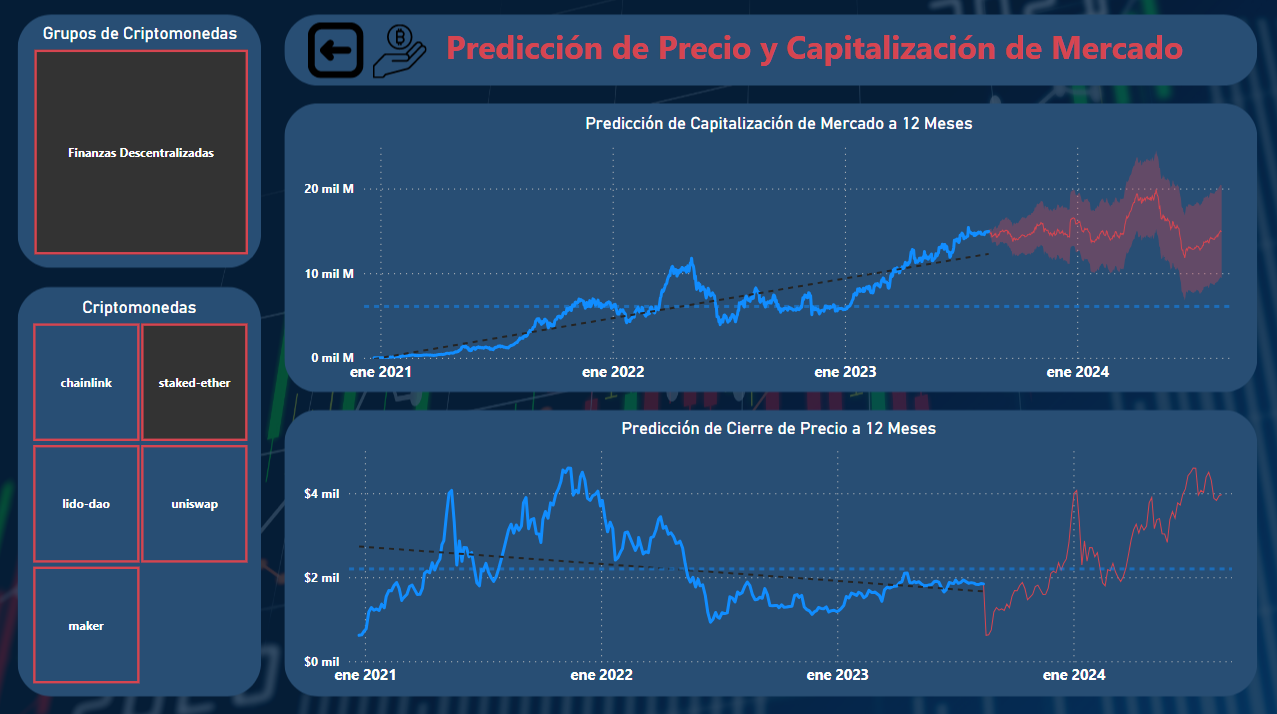

The page's visual inventory and layout, read from the dashboard file:
{"tool":"powerbi","page":{"name":"Predicción 12 Meses","canvas":[1280,720],"ordinal":4},"visuals":[{"type":"lineChart","title":"Predicción de Capitalización de Mercado a 12 Meses","fields":{"Category":["combinado_completo.date"],"Y":["Avg(combinado_completo.market_caps)"]},"box":[300.6,115.6,959.4,278.8],"z":0},{"type":"lineChart","title":"Predicción de Cierre de Precio a 12 Meses","fields":{"Category":["combinado_completo.date"],"Y":["Avg(combinado_completo.close)"]},"box":[300.9,421.8,959.1,277.3],"z":1000},{"type":"textbox","box":[442.7,22.7,797.3,80.9],"z":2000},{"type":"slicer","title":"Grupos de Criptomonedas","fields":{"Values":["combinado_completo.Grupos de Criptomonedas"]},"box":[10,26.4,263.6,238.2],"z":3000},{"type":"slicer","title":"Criptomonedas","fields":{"Values":["combinado_completo.id"]},"box":[8.1,299.4,265,393.8],"z":4000},{"type":"actionButton","box":[308.3,22.9,58.6,48.4],"z":5000}]}

Visuals, with their boxes in screenshot pixels (x1, y1, x2, y2), scaled from the page's 1280x720 canvas onto the 1277x714 screenshot:
"Predicción de Capitalización de Mercado a 12 Meses" lineChart: (left=300, top=115, right=1257, bottom=391)
"Predicción de Cierre de Precio a 12 Meses" lineChart: (left=300, top=418, right=1257, bottom=693)
textbox: (left=442, top=23, right=1237, bottom=103)
"Grupos de Criptomonedas" slicer: (left=10, top=26, right=273, bottom=262)
"Criptomonedas" slicer: (left=8, top=297, right=272, bottom=687)
actionButton: (left=308, top=23, right=366, bottom=71)
